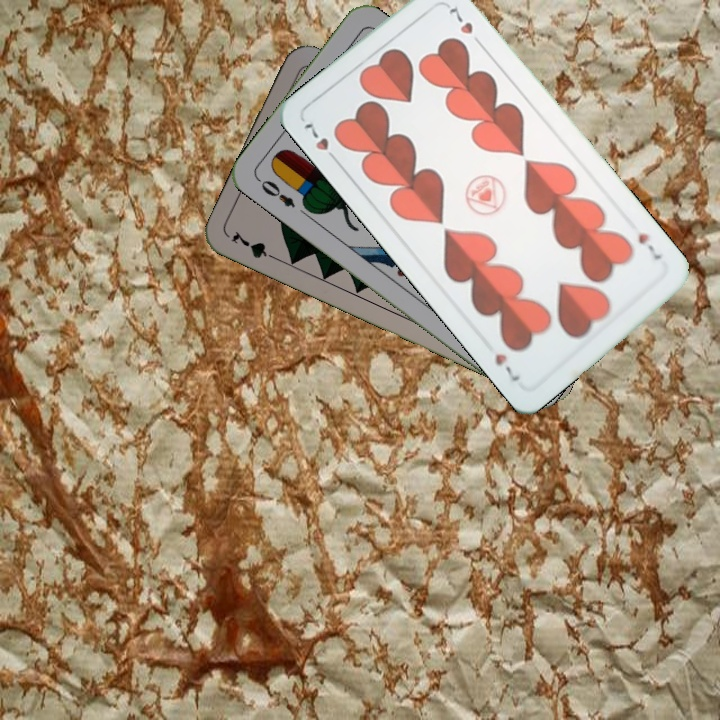EO: (253, 174, 298, 211)
G7: (226, 227, 283, 264)
H7: (299, 118, 342, 166), (634, 229, 664, 263)
